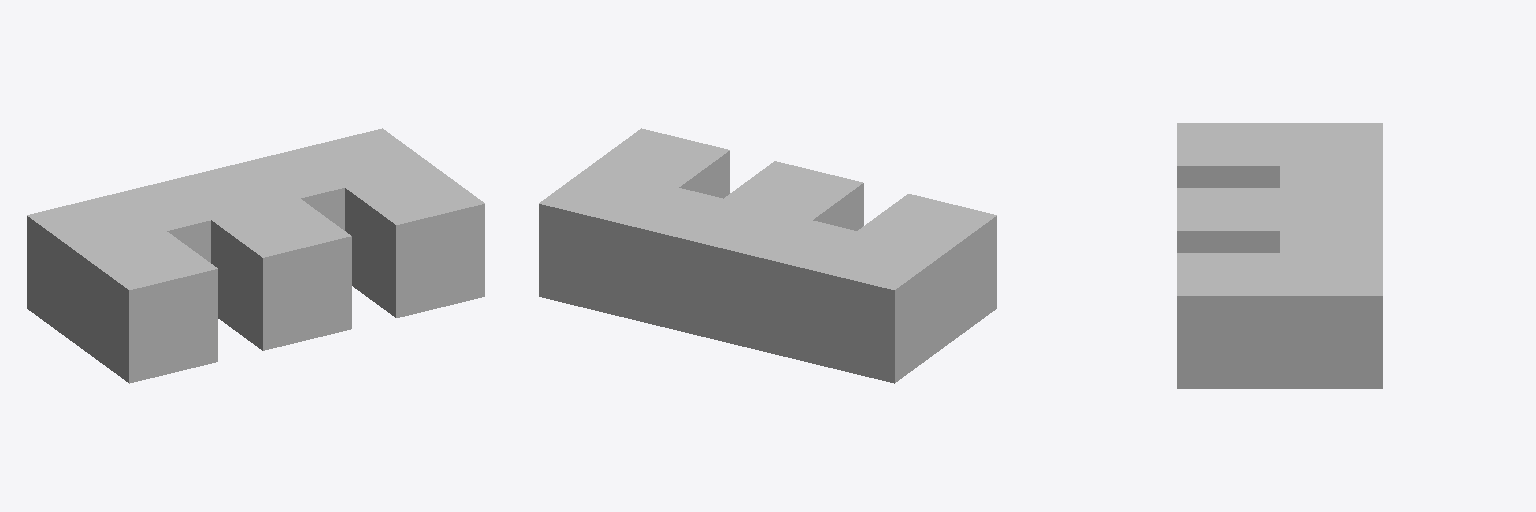
The model's file is nethkin.obj.
3 renders of one model, left to right at view 1: azimuth 30°, elevation 25°; view 2: azimuth 150°, elevation 25°; view 3: azimuth 270°, elevation 25°, orthographic.
Parts seen in each view (by area): view 1: Cube; view 2: Cube; view 3: Cube.
Part boxes in pixels (x1,y1,x2,y2): Cube: (27, 128, 484, 383); Cube: (539, 128, 996, 383); Cube: (1177, 123, 1382, 388).
Size of the model in its own units: 8 by 2 by 4.